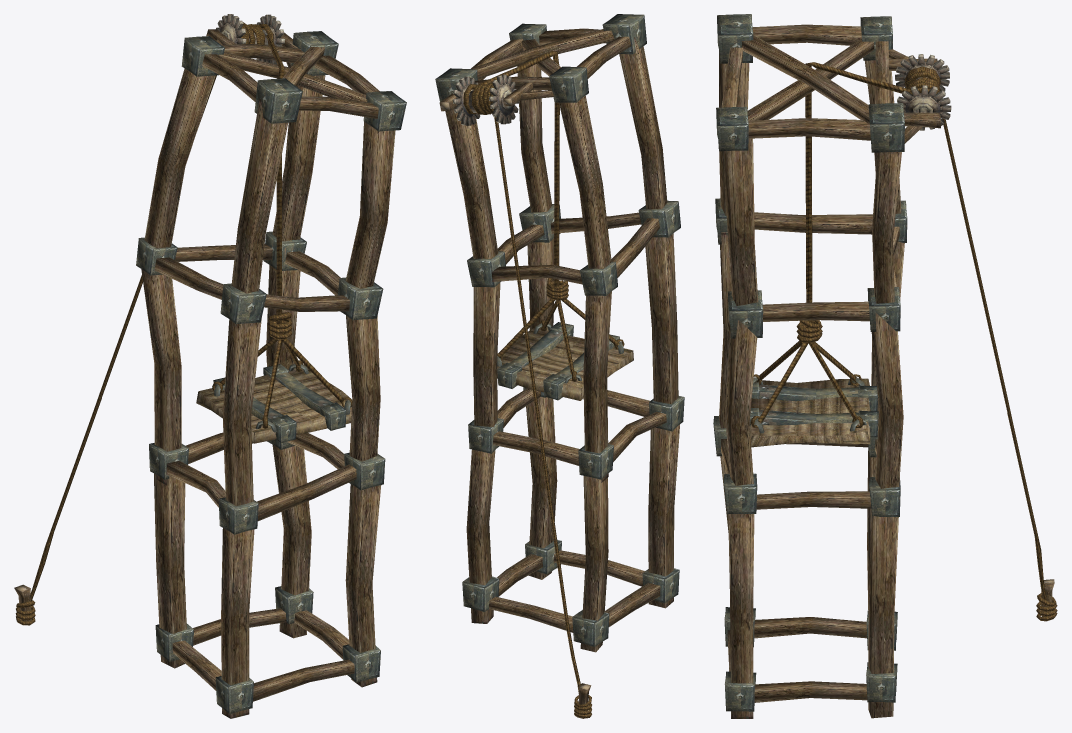
Rendered from S_Build_West062.FBX.
3 renders of one model, left to right at view 1: azimuth 30°, elevation 25°; view 2: azimuth 150°, elevation 25°; view 3: azimuth 270°, elevation 25°, orthographic. The views are drawn at different scales.
Parts seen in each view (by area): view 1: S_Build_West062; view 2: S_Build_West062; view 3: S_Build_West062.
Part boxes in pixels (left/top/right/bottom): S_Build_West062: left=14, top=14, right=406, bottom=718; S_Build_West062: left=435, top=14, right=684, bottom=718; S_Build_West062: left=713, top=14, right=1057, bottom=718.
Size of the model in its own units: 504 by 605 by 1264.
